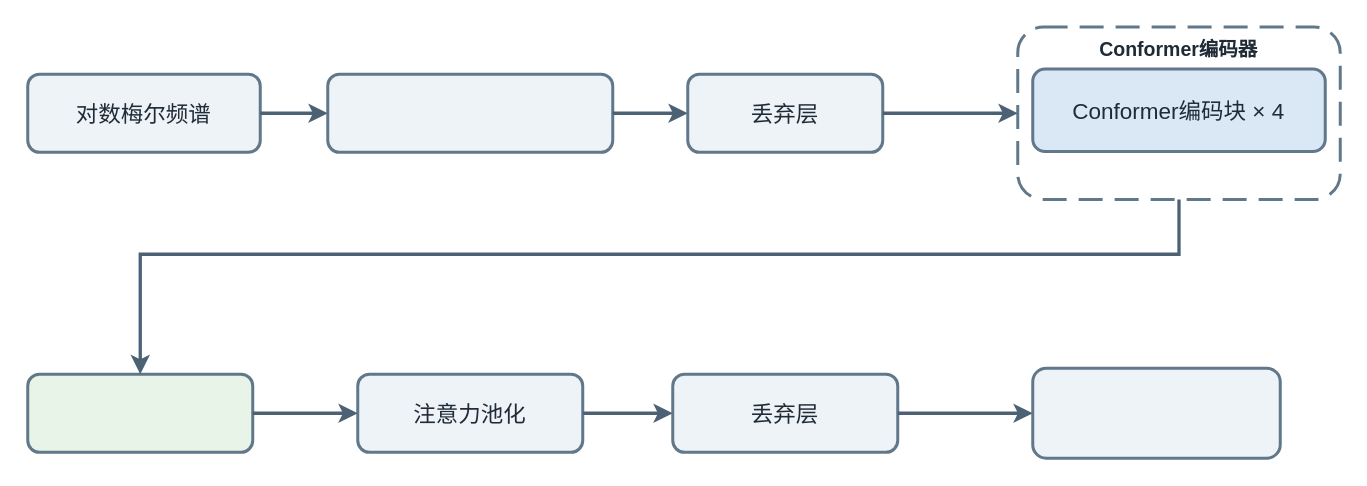
The diagram is 1367 pixels wide and 486 high, and some of its shapes have lost their labels. Each missing label, with the centre of its shape:
层归一化: the point at 140,412
无卷积前端时间分块输入: the point at 470,112
线性分类器 （8类情绪输出）: the point at 1155,412
